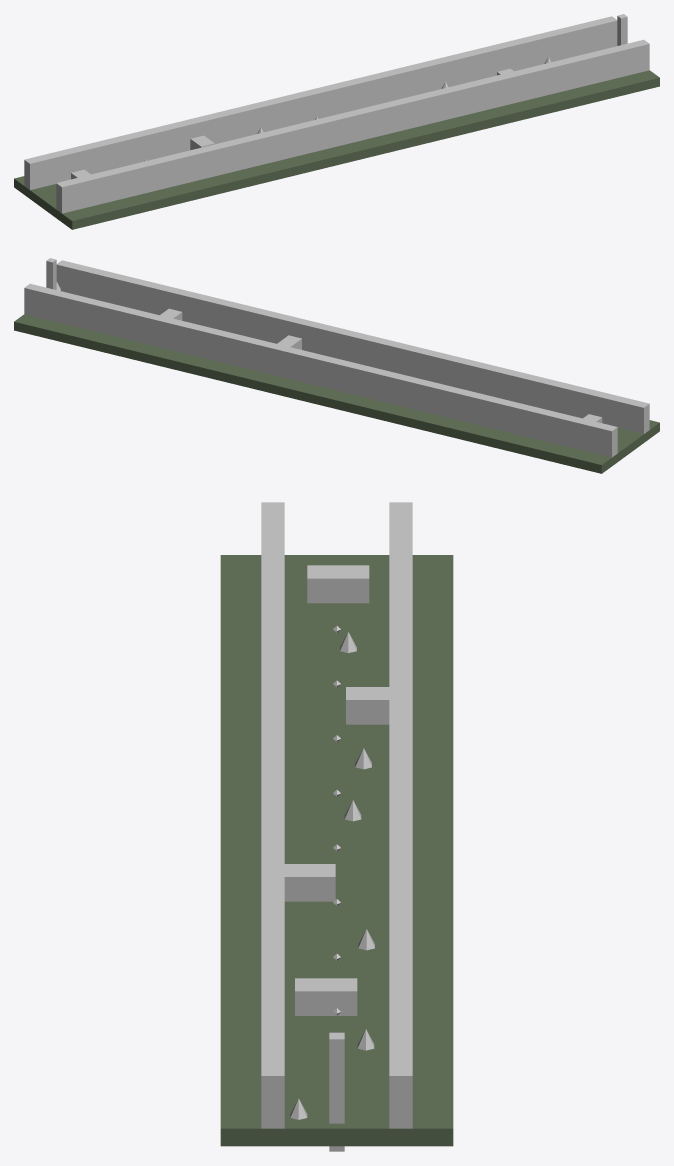
File: layout_main.obj
3 renders of one model, top to bottom at view 1: azimuth 30°, elevation 25°; view 2: azimuth 150°, elevation 25°; view 3: azimuth 270°, elevation 25°, orthographic. The views are drawn at different scales.
Visible parts, largest first — view 1: walls, floor, obstacles, goal; view 2: walls, floor, obstacles, goal; view 3: floor, walls, obstacles, goal.
Boxes of the visible parts, x1,y1,x2,y2 form: walls: (24, 16, 649, 213); floor: (14, 70, 659, 229); obstacles: (71, 56, 551, 179); goal: (617, 14, 627, 45); walls: (24, 260, 649, 457); floor: (14, 314, 659, 473); obstacles: (56, 282, 602, 422); goal: (46, 258, 56, 289); floor: (220, 555, 453, 1146); walls: (261, 502, 412, 1128); obstacles: (284, 565, 389, 1119); goal: (329, 1032, 344, 1151).
Size of the model in its own units: 70.02 by 6.4 by 12.
